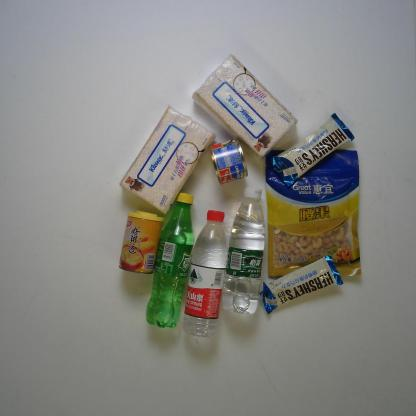Canned Food: (118, 209, 166, 275), (208, 137, 248, 186)
Chocolate: (268, 111, 356, 188), (259, 255, 344, 315)
Dried Fruit: (265, 150, 362, 278)
Drink: (145, 192, 195, 330), (181, 209, 229, 338), (220, 186, 266, 314)
Tissue: (191, 53, 297, 163), (119, 104, 216, 216)
